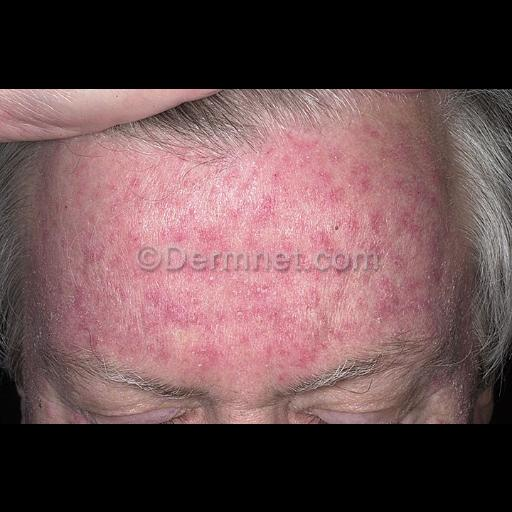Skin_Lesion: (140, 291, 202, 331), (370, 272, 406, 332), (68, 278, 94, 342), (244, 189, 280, 227), (295, 328, 329, 366), (281, 132, 323, 162), (194, 224, 232, 256), (314, 174, 350, 206), (233, 302, 287, 322), (309, 224, 339, 258), (189, 348, 221, 368), (119, 228, 147, 250), (120, 178, 150, 198), (85, 242, 107, 264)
